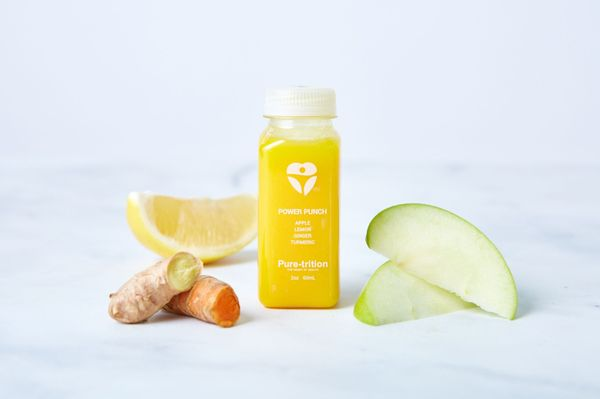taco: (124, 191, 259, 265)
